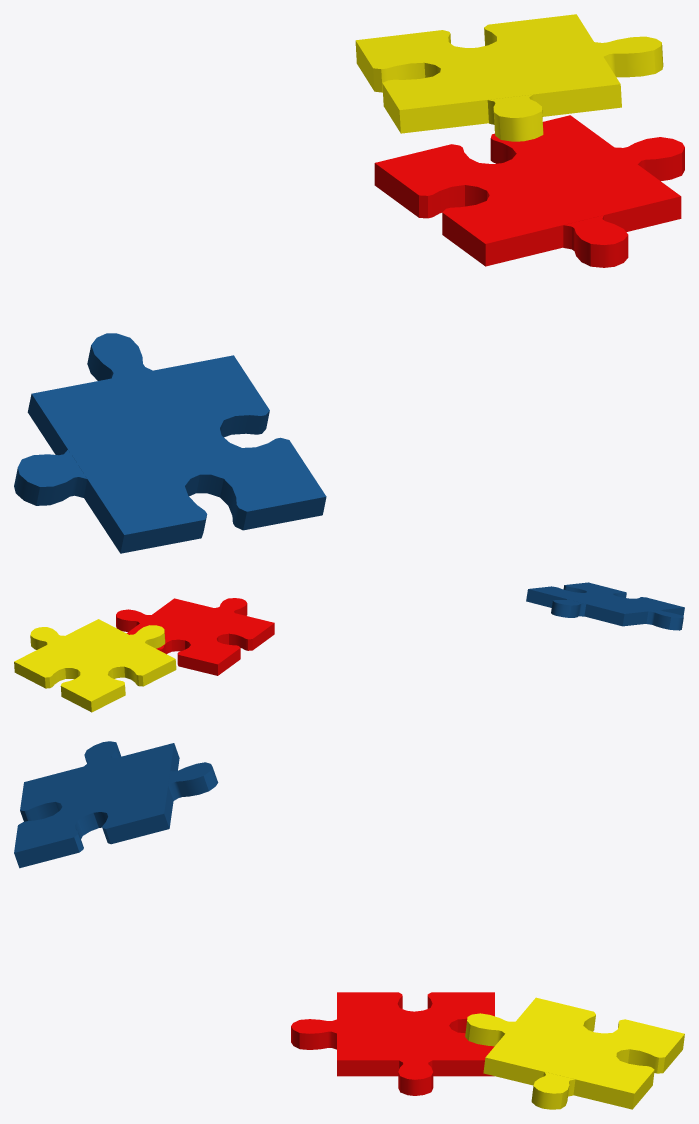
File: puzzlepieces.fbx
3 renders of one model, top to bottom at view 1: azimuth 30°, elevation 25°; view 2: azimuth 150°, elevation 25°; view 3: azimuth 270°, elevation 25°, orthographic. The views are drawn at different scales.
Parts seen in each view (by area): view 1: PuzzlePiece2, PuzzlePiece, PuzzlePiece1; view 2: PuzzlePiece1, PuzzlePiece, PuzzlePiece2; view 3: PuzzlePiece1, PuzzlePiece2, PuzzlePiece.
Part boxes in pixels (box(x1,y1,x2,y2)): PuzzlePiece2: box(14, 333, 326, 553); PuzzlePiece: box(374, 115, 684, 267); PuzzlePiece1: box(355, 14, 663, 141); PuzzlePiece1: box(14, 619, 176, 712); PuzzlePiece: box(116, 598, 274, 675); PuzzlePiece2: box(526, 582, 684, 630); PuzzlePiece1: box(465, 997, 684, 1109); PuzzlePiece2: box(14, 741, 218, 868); PuzzlePiece: box(291, 992, 494, 1095).
Size of the model in its own units: 1148 by 130 by 982.
1 material, 1 textured.
